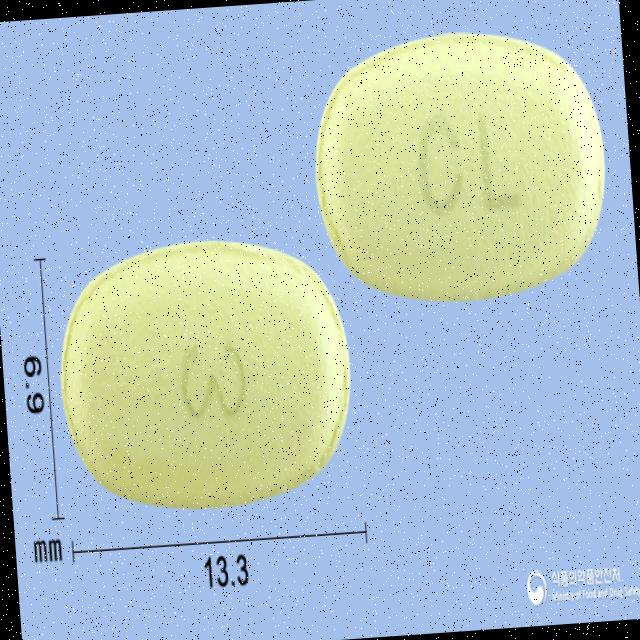Clamin: (48, 226, 363, 520), (304, 17, 618, 310)
